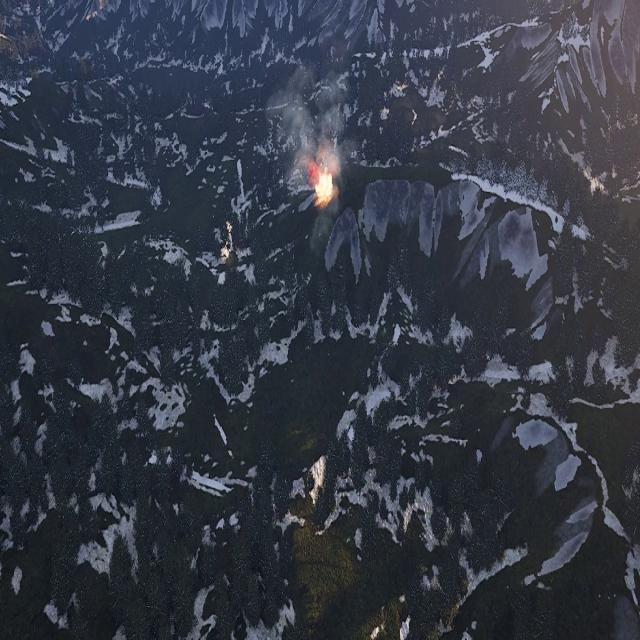fire: (314, 167, 334, 203)
smoke: (265, 6, 354, 180)
